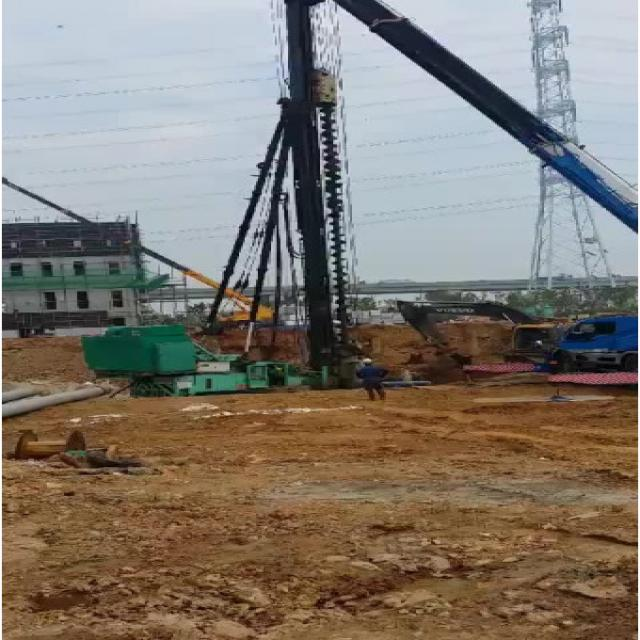excavator: (397, 300, 566, 369)
pile: (321, 106, 352, 341)
